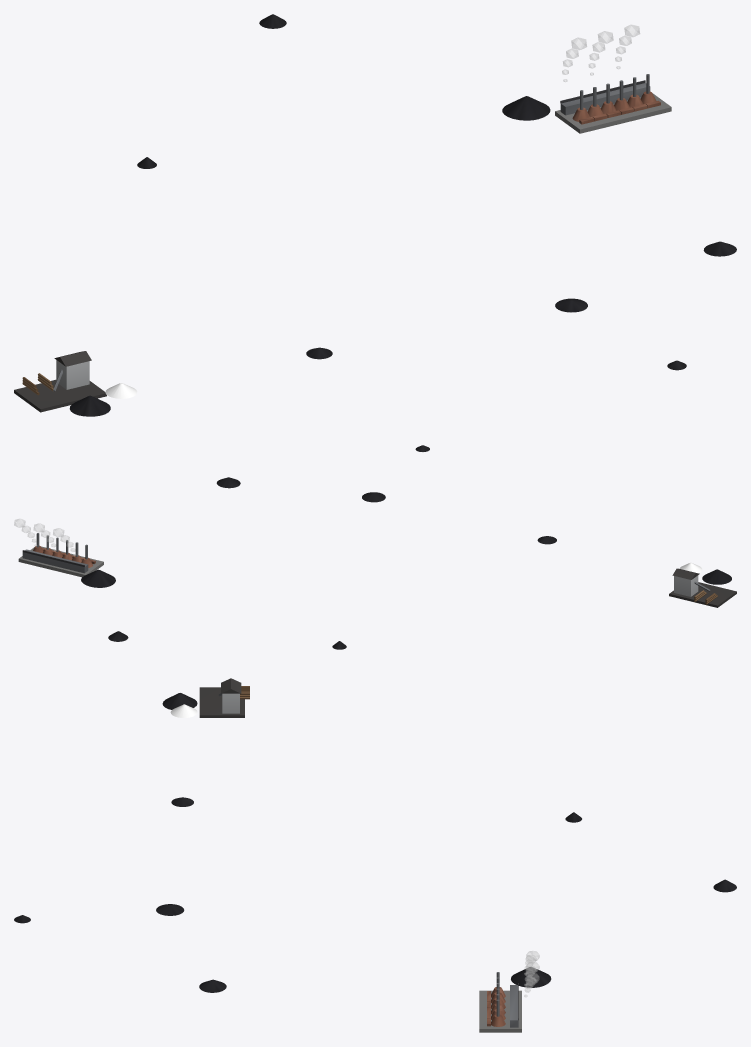
File: Theme_P3.fbx
3 views of the same model, one above another, from view 1: azimuth 30°, elevation 25°; view 2: azimuth 150°, elevation 25°; view 3: azimuth 270°, elevation 25° (orthographic). The views are drawn at different scales.
Visible parts, largest first — view 1: Theme.CokeOvens, Theme.Screens, Theme.CokeStock; view 2: Theme.CokeOvens, Theme.Screens, Theme.CokeStock; view 3: Theme.CokeOvens, Theme.Screens, Theme.CokeStock.
Part boxes in pixels (x1,y1,x2,y2): Theme.CokeOvens: [555, 74, 671, 133]; Theme.Screens: [14, 351, 106, 412]; Theme.CokeStock: [502, 96, 550, 120]; Theme.CokeOvens: [18, 533, 103, 577]; Theme.Screens: [669, 568, 736, 607]; Theme.CokeStock: [81, 569, 115, 587]; Theme.CokeOvens: [479, 972, 521, 1032]; Theme.Screens: [199, 678, 249, 717]; Theme.CokeStock: [511, 967, 551, 987].
Size of the model in its own units: 31146 by 2470 by 28666.
